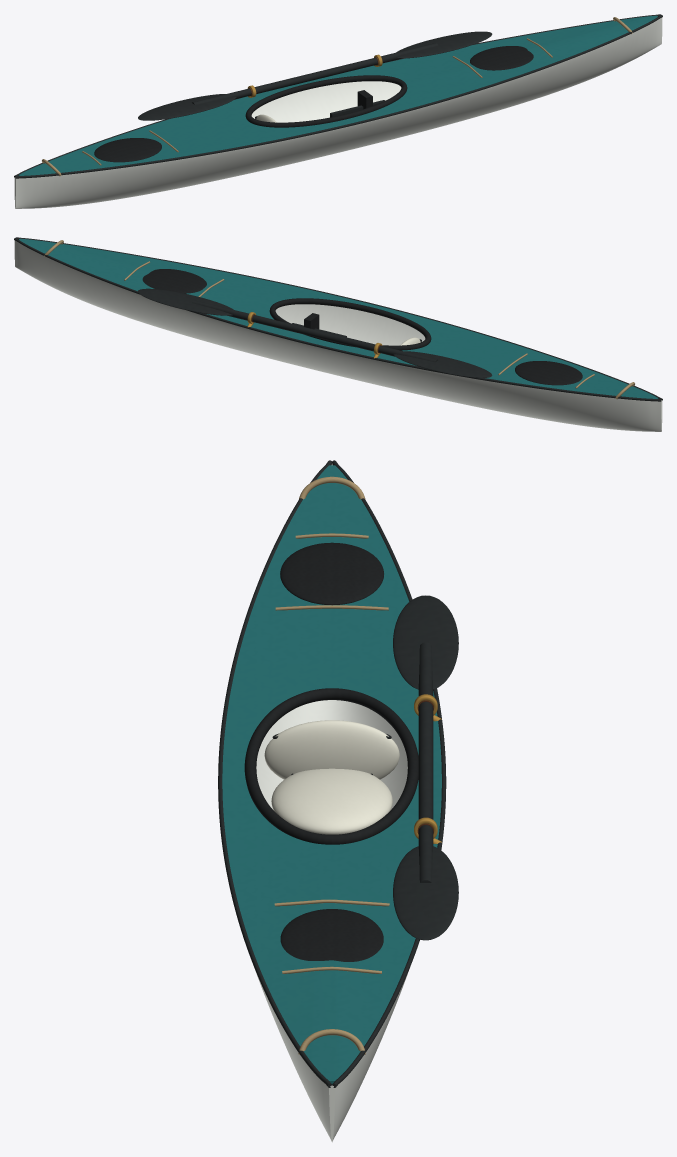
Rendered from innerscene_kayak_single.glb.
3 renders of one model, top to bottom at view 1: azimuth 30°, elevation 25°; view 2: azimuth 150°, elevation 25°; view 3: azimuth 270°, elevation 25°, orthographic. The views are drawn at different scales.
Visible parts, largest first — view 1: Original finite hollow hull, Finite deck with actual cockpit opening, Continuous raised cockpit coaming, Continuous gunwale -1, Retained double paddle continuous shaft, Closed storage hatch 1, Closed storage hatch 2, Retained double paddle curved aft blade, Retained double paddle curved forward blade, Continuous gunwale 1; view 2: Original finite hollow hull, Finite deck with actual cockpit opening, Continuous gunwale 1, Retained double paddle continuous shaft, Continuous raised cockpit coaming, Closed storage hatch 1, Retained double paddle curved aft blade, Closed storage hatch 2, Retained double paddle curved forward blade, Continuous gunwale -1; view 3: Finite deck with actual cockpit opening, Original finite hollow hull, Sculpted cockpit seat cushion, Finite curved cockpit backrest, Continuous raised cockpit coaming, Closed storage hatch 1, Retained double paddle curved forward blade, Closed storage hatch 2, Retained double paddle curved aft blade, Retained double paddle continuous shaft, Continuous gunwale -1, Continuous gunwale 1.
Boxes of the visible parts, x1,y1,x2,y2 form: Original finite hollow hull: [14, 17, 662, 208]; Finite deck with actual cockpit opening: [18, 15, 657, 175]; Continuous raised cockpit coaming: [245, 75, 407, 127]; Continuous gunwale -1: [15, 15, 662, 178]; Retained double paddle continuous shaft: [192, 43, 438, 104]; Closed storage hatch 1: [94, 138, 161, 162]; Closed storage hatch 2: [470, 46, 533, 70]; Retained double paddle curved aft blade: [138, 94, 236, 120]; Retained double paddle curved forward blade: [396, 31, 492, 58]; Continuous gunwale 1: [14, 14, 661, 177]; Original finite hollow hull: [14, 240, 662, 431]; Finite deck with actual cockpit opening: [19, 238, 658, 398]; Continuous gunwale 1: [14, 238, 661, 401]; Retained double paddle continuous shaft: [192, 300, 437, 362]; Continuous raised cockpit coaming: [269, 298, 431, 350]; Closed storage hatch 1: [515, 361, 582, 385]; Retained double paddle curved aft blade: [393, 351, 492, 377]; Closed storage hatch 2: [142, 269, 206, 293]; Retained double paddle curved forward blade: [138, 288, 233, 315]; Continuous gunwale -1: [15, 237, 662, 400]; Finite deck with actual cockpit opening: [222, 465, 441, 1084]; Original finite hollow hull: [255, 463, 408, 1142]; Sculpted cockpit seat cushion: [271, 768, 392, 834]; Finite curved cockpit backrest: [264, 720, 399, 779]; Continuous raised cockpit coaming: [244, 688, 418, 844]; Closed storage hatch 1: [280, 542, 383, 605]; Retained double paddle curved forward blade: [393, 846, 458, 940]; Closed storage hatch 2: [280, 909, 383, 961]; Retained double paddle curved aft blade: [393, 595, 458, 689]; Retained double paddle continuous shaft: [418, 642, 433, 882]; Continuous gunwale -1: [218, 460, 331, 1087]; Continuous gunwale 1: [332, 460, 446, 1087].
Bounding box in the file's own units: 4.3 × 0.3842 × 0.6935.
8 materials, 8 textured.
